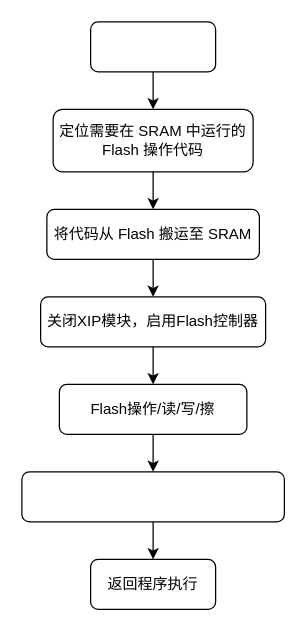
Some shapes in this 306 by 631 pixel diagram are drawn without their labels. The shapes that lost their labels are listed below. From the top down, each one's centre as x and y in pixels, then its label:
pixel 152 46: 程序启动
pixel 152 496: 关闭Flash控制器，重新启用XIP模块
